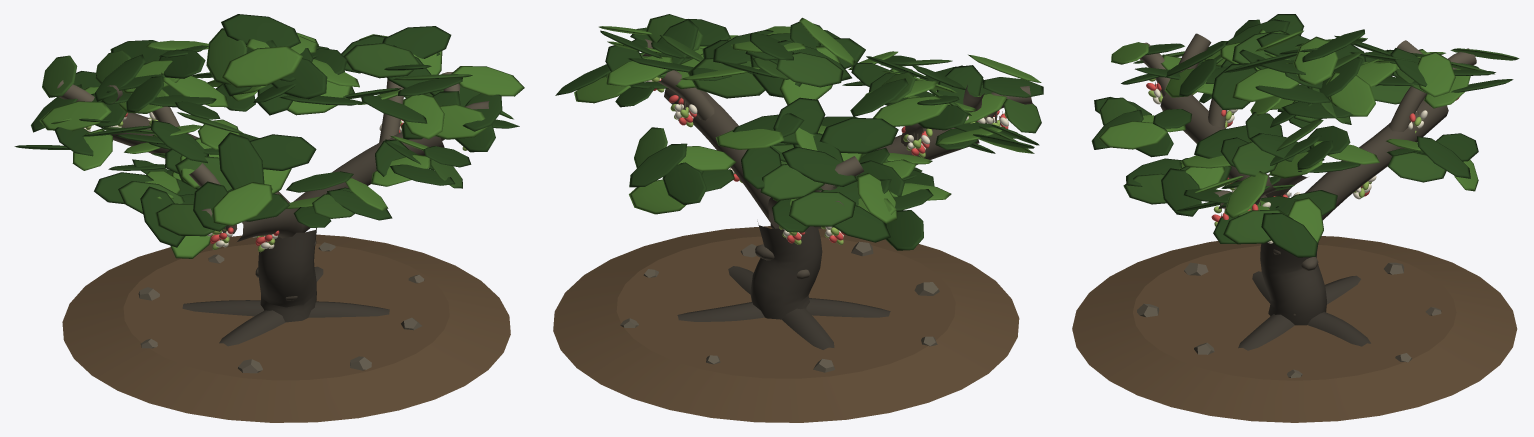
The model's file is arbol-pistacho.glb.
3 renders of one model, left to right at view 1: azimuth 30°, elevation 25°; view 2: azimuth 150°, elevation 25°; view 3: azimuth 270°, elevation 25°, orthographic. The views are drawn at different scales.
Visible parts, largest first — view 1: PISTACHIA_VERA_TREE, foliage_tuft (×18); view 2: PISTACHIA_VERA_TREE, foliage_tuft (×18), pistachio_cluster (×2); view 3: PISTACHIA_VERA_TREE, foliage_tuft (×18).
Part boxes in pixels (bbox=[...]): PISTACHIA_VERA_TREE: bbox=[57, 72, 510, 422]; foliage_tuft (×18): bbox=[14, 14, 524, 258]; PISTACHIA_VERA_TREE: bbox=[553, 39, 1032, 422]; foliage_tuft (×18): bbox=[555, 14, 1043, 250]; pistachio_cluster (×2): bbox=[669, 95, 932, 157]; PISTACHIA_VERA_TREE: bbox=[1072, 33, 1517, 422]; foliage_tuft (×18): bbox=[1091, 14, 1519, 257].
Size of the model in its own units: 4.86 by 3.31 by 4.43.
